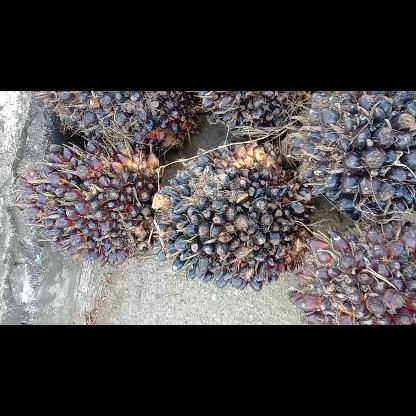TBS mentah: (149, 139, 317, 294), (12, 136, 166, 268), (287, 91, 415, 225), (288, 220, 414, 324), (51, 91, 206, 159), (193, 91, 311, 147)
